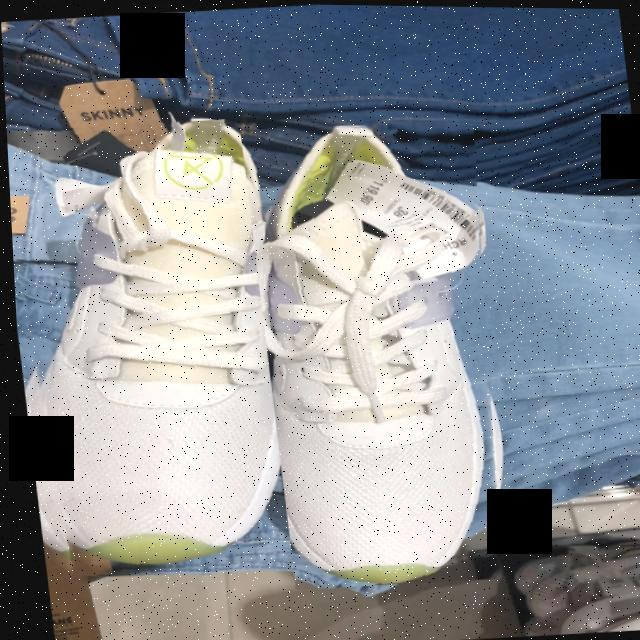shoe: (32, 119, 278, 572), (253, 126, 484, 584)
